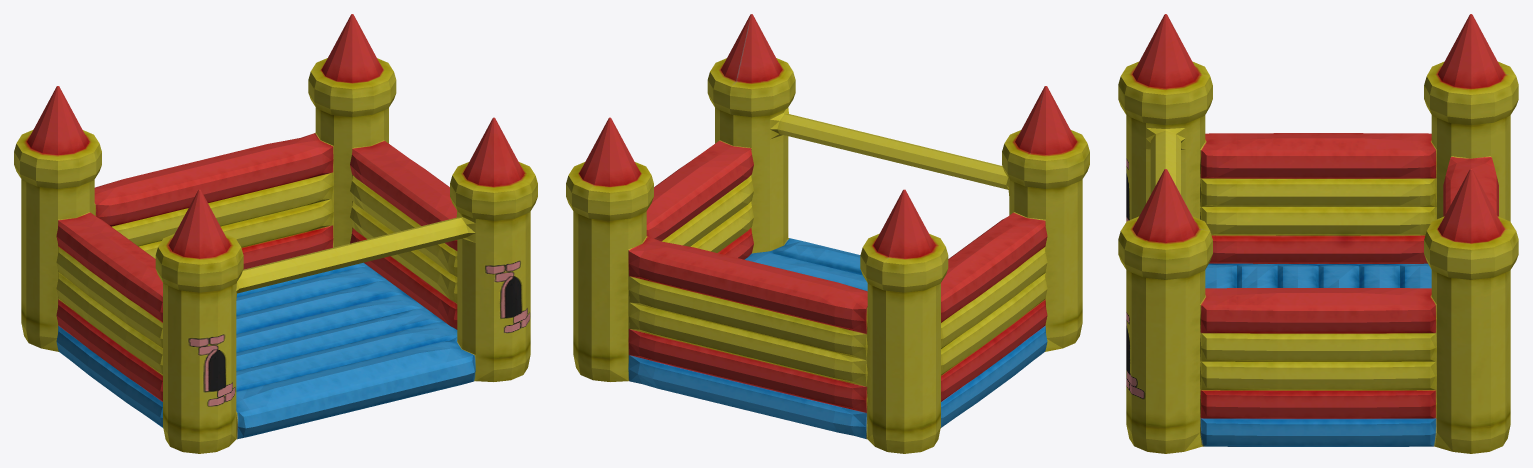
Rendered from PROP_Amusement Park_Jumping Castle.obj.
3 views of the same model, side by side, from view 1: azimuth 30°, elevation 25°; view 2: azimuth 150°, elevation 25°; view 3: azimuth 270°, elevation 25° (orthographic). The views are drawn at different scales.
Size of the model in its own units: 8.83 by 5.7 by 7.68.
Materials: 1 (1 with a texture image).
